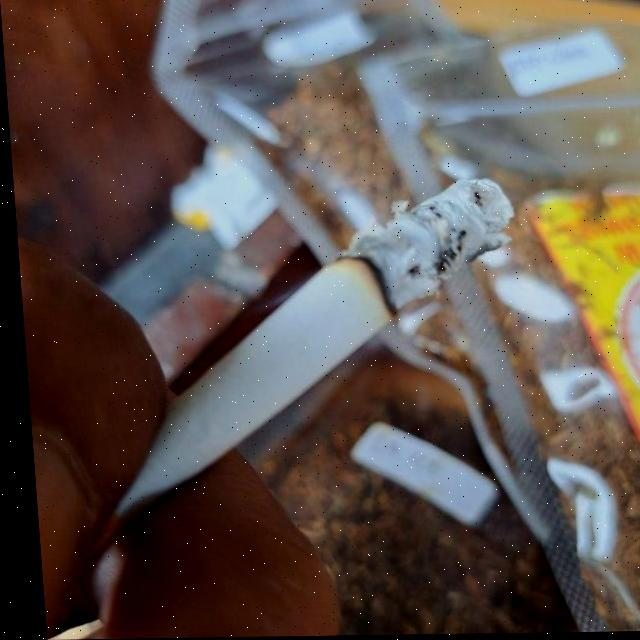cigarette: (57, 177, 527, 548)
